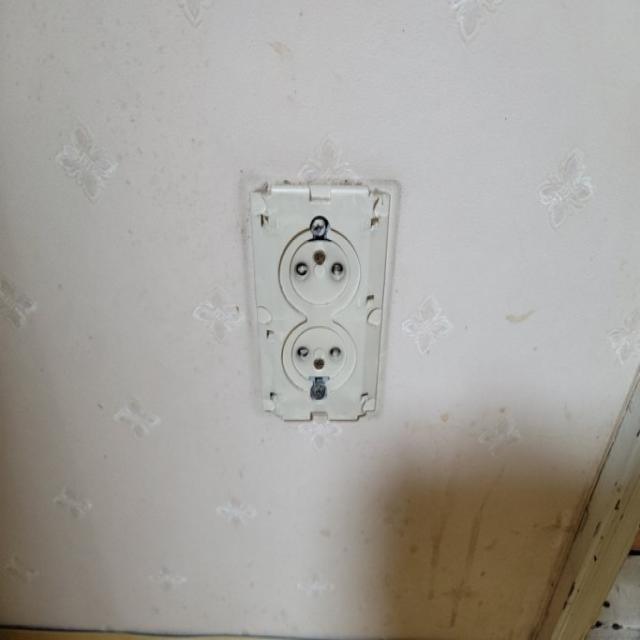typeb: (208, 144, 432, 492)
